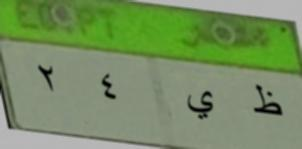2: (28, 58, 61, 94)
4: (90, 73, 126, 101)
Thaa: (247, 81, 287, 122)
yaa: (181, 86, 220, 124)
